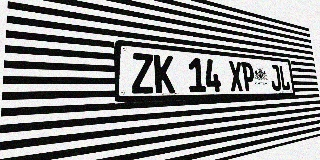1: (187, 57, 206, 92)
4: (204, 59, 221, 92)
J: (269, 64, 282, 91)
K: (154, 54, 175, 93)
L: (279, 65, 290, 90)
P: (241, 62, 255, 91)
X: (228, 61, 244, 92)
Z: (131, 53, 154, 94)
